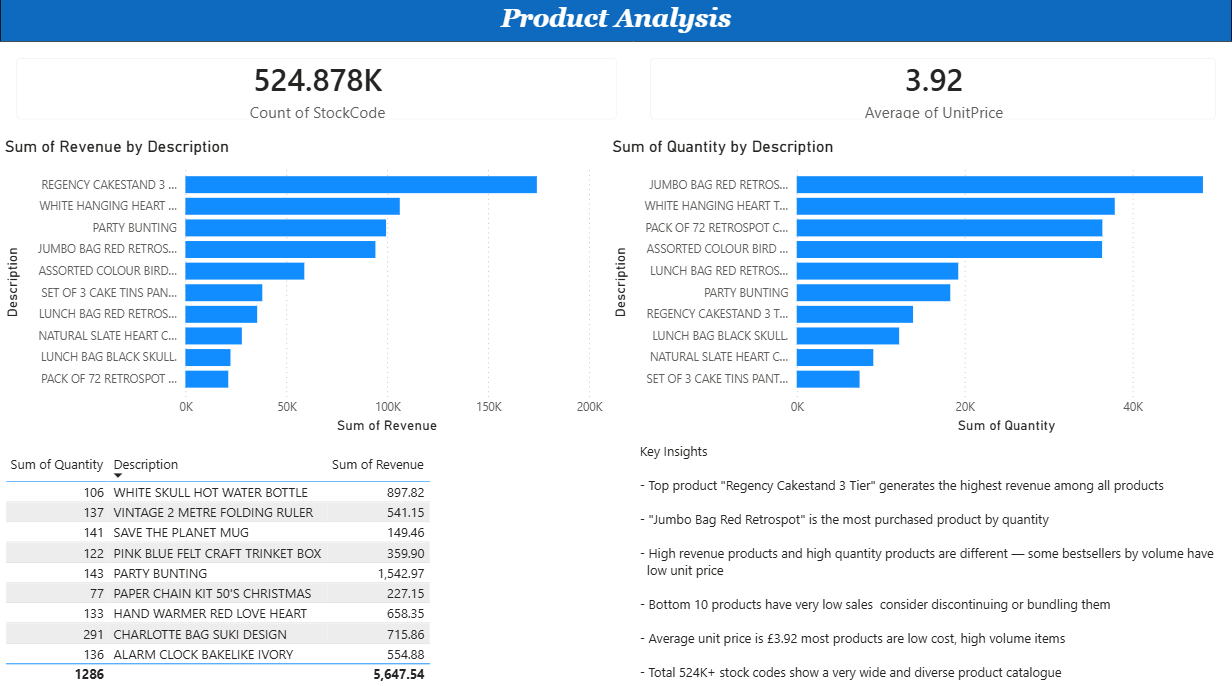

What the dashboard file says about the page in this screenshot:
{"tool":"powerbi","page":{"name":"Product Analysis","canvas":[1280,720],"ordinal":2},"visuals":[{"type":"textbox","box":[0,0,1280.3,45.9],"z":0},{"type":"cardVisual","fields":{"Data":["Count(cleaned_online_retail.StockCode)"]},"box":[0,45.5,449.4,98.7],"z":1000},{"type":"cardVisual","fields":{"Data":["Avg(cleaned_online_retail.UnitPrice)"]},"box":[862.3,45.5,418.2,98.7],"z":2000},{"type":"clusteredBarChart","title":"Top 10 Products by Revenue","fields":{"Y":["Sum(cleaned_online_retail.Revenue)"],"Category":["cleaned_online_retail.Description"]},"box":[0,144.2,631.2,313],"z":3000},{"type":"clusteredBarChart","title":"Top 10 Products by Quantity Sold","fields":{"Y":["Sum(cleaned_online_retail.Quantity)"],"Category":["cleaned_online_retail.Description"]},"box":[631.2,144.2,648.1,313],"z":4000},{"type":"tableEx","title":"Least Selling Products","fields":{"Values":["Sum(cleaned_online_retail.Quantity)","cleaned_online_retail.Description","Sum(cleaned_online_retail.Revenue)"]},"box":[0,457.1,659.7,262.3],"z":5000},{"type":"textbox","box":[659.7,457.1,620.8,262.3],"z":6000},{"type":"cardVisual","fields":{"Data":["Customer Summary.Top Product by Revenue"]},"box":[449.4,45.5,413,98.7],"z":7000}]}

Visuals, with their boxes in screenshot pixels (x1, y1, x2, y2), scaled from the page's 1280x720 canvas onto the 1232x686 screenshot:
textbox: region(0, 0, 1231, 44)
cardVisual - Count(cleaned_online_retail.StockCode): region(0, 43, 433, 137)
cardVisual - Avg(cleaned_online_retail.UnitPrice): region(830, 43, 1231, 137)
"Top 10 Products by Revenue" clusteredBarChart: region(0, 137, 608, 436)
"Top 10 Products by Quantity Sold" clusteredBarChart: region(608, 137, 1231, 436)
"Least Selling Products" tableEx: region(0, 436, 635, 685)
textbox: region(635, 436, 1231, 685)
cardVisual - Customer Summary.Top Product by Revenue: region(433, 43, 830, 137)
